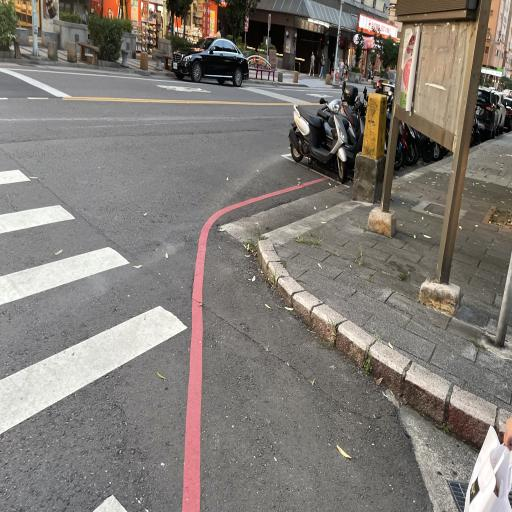car: (165, 20, 253, 102)
redline: (177, 172, 339, 512)
